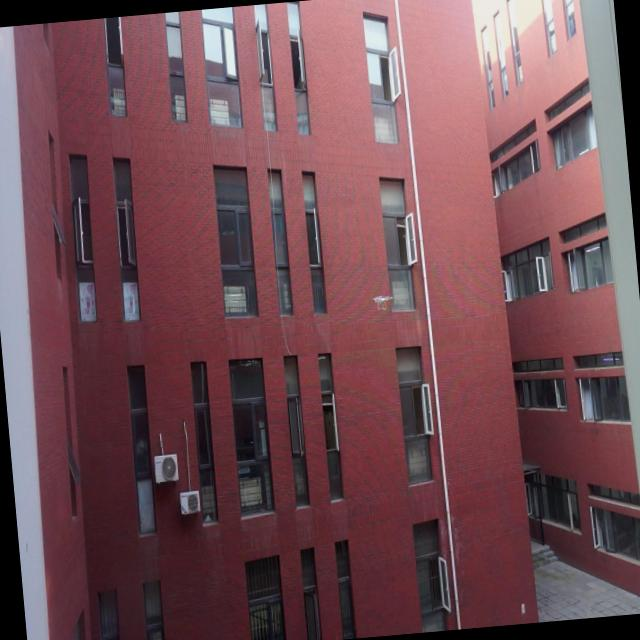drone: (370, 288, 396, 314)
